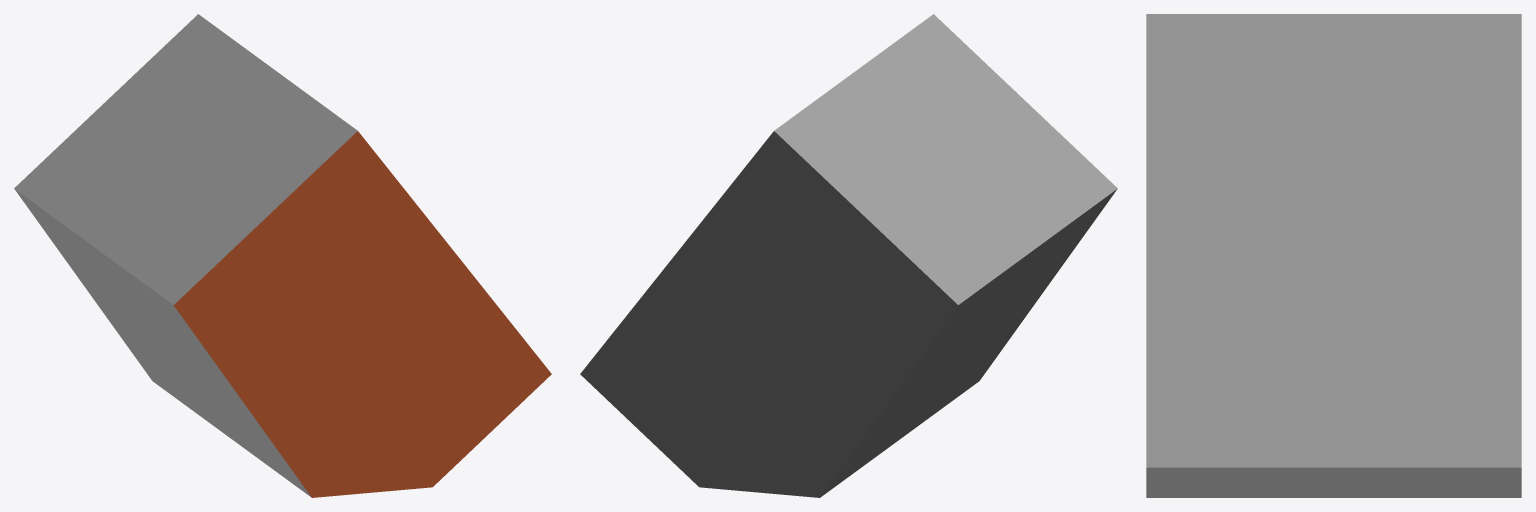
Rendered from construction_1471_assumed_A_Casa_h6m.obj.
The picture shows the model from 3 angles, left to right: view 1: azimuth 30°, elevation 25°; view 2: azimuth 150°, elevation 25°; view 3: azimuth 270°, elevation 25°; orthographic projection. The views are drawn at different scales.
Parts seen in each view (by area): view 1: construction_1471_assumed_A_Casa; view 2: construction_1471_assumed_A_Casa; view 3: construction_1471_assumed_A_Casa.
Part boxes in pixels (left/top/right/bottom): construction_1471_assumed_A_Casa: left=14, top=14, right=551, bottom=497; construction_1471_assumed_A_Casa: left=580, top=14, right=1117, bottom=497; construction_1471_assumed_A_Casa: left=1146, top=14, right=1521, bottom=497.
Bounding box in the file's own units: 8.21 × 7.77 × 6.
